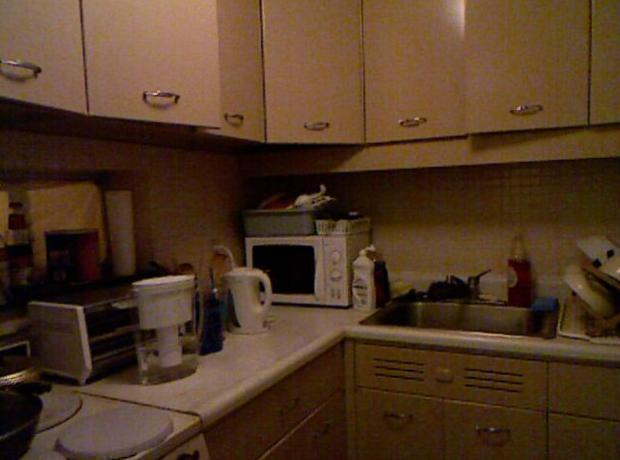Lavaplatos: (353, 263, 568, 361)
